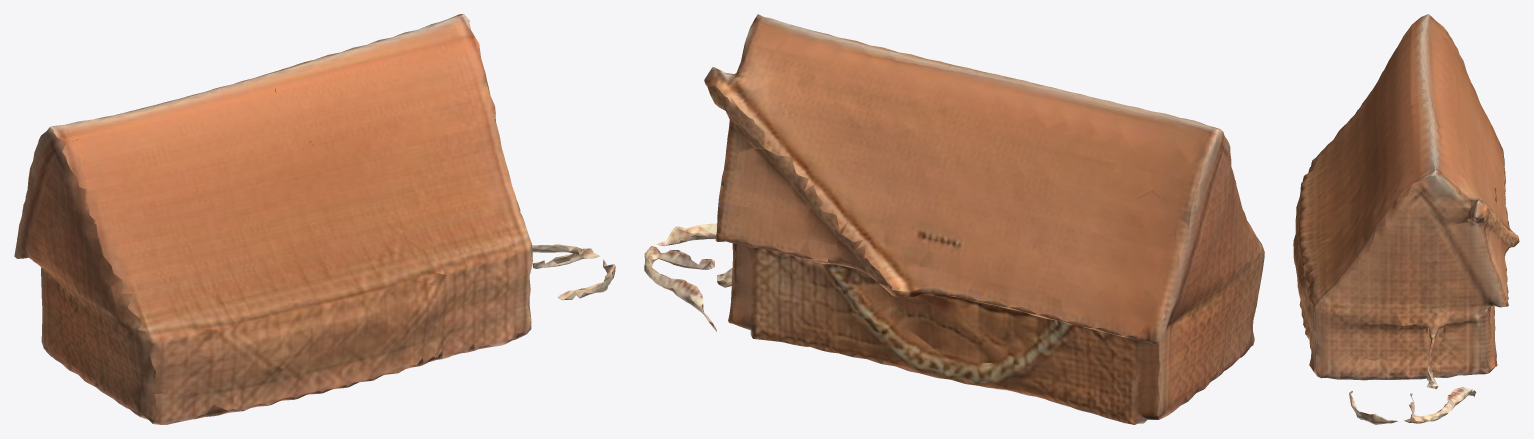
3 renders of one model, left to right at view 1: azimuth 30°, elevation 25°; view 2: azimuth 150°, elevation 25°; view 3: azimuth 270°, elevation 25°, orthographic. The views are drawn at different scales.
Parts seen in each view (by area): view 1: world; view 2: world; view 3: world.
Part boxes in pixels (x1,y1,x2,y2): world: (14, 14, 615, 424); world: (644, 14, 1264, 424); world: (1293, 14, 1519, 424).
Bounding box in the file's own units: 0.9087 × 0.4494 × 0.4156.
1 material, 1 textured.
